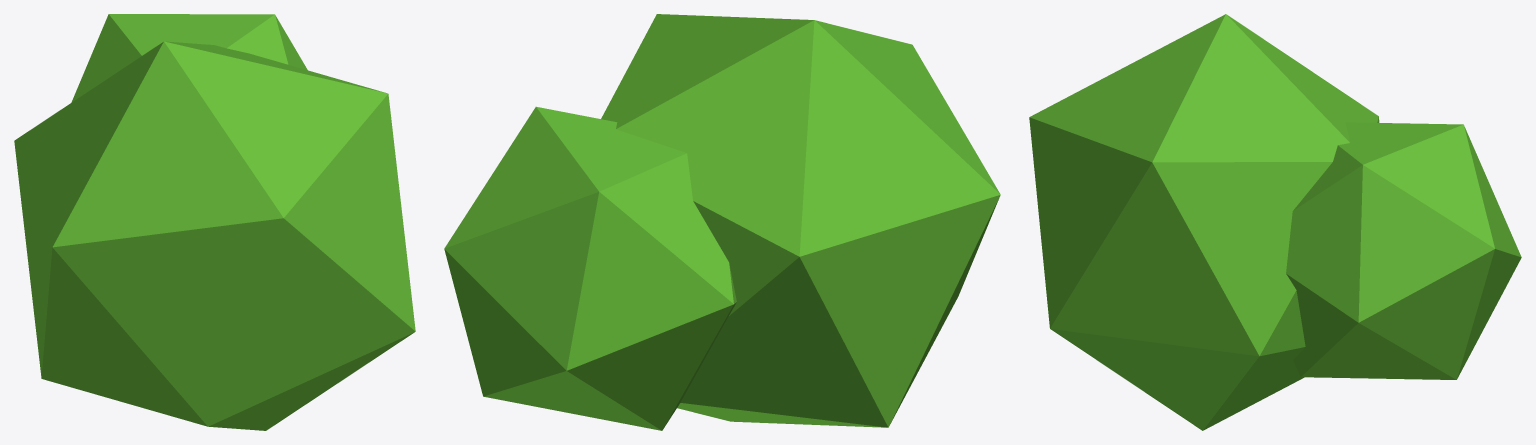
3 views of the same model, side by side, from view 1: azimuth 30°, elevation 25°; view 2: azimuth 150°, elevation 25°; view 3: azimuth 270°, elevation 25° (orthographic). The views are drawn at different scales.
Visible parts, largest first — view 1: Icosphere, Icosphere.001; view 2: Icosphere, Icosphere.001; view 3: Icosphere, Icosphere.001.
Boxes of the visible parts, <box> form: Icosphere: <box>14,41,415,430</box>; Icosphere.001: <box>71,14,307,102</box>; Icosphere: <box>601,14,1000,427</box>; Icosphere.001: <box>444,106,736,430</box>; Icosphere: <box>1029,14,1379,430</box>; Icosphere.001: <box>1286,122,1521,379</box>.
Size of the model in its own units: 371 by 361 by 429.
